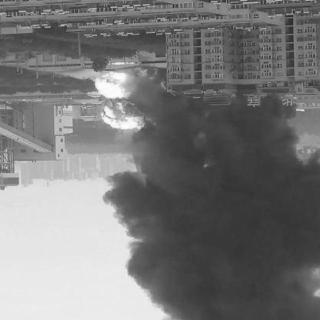Smoke: (128, 113, 312, 319)
